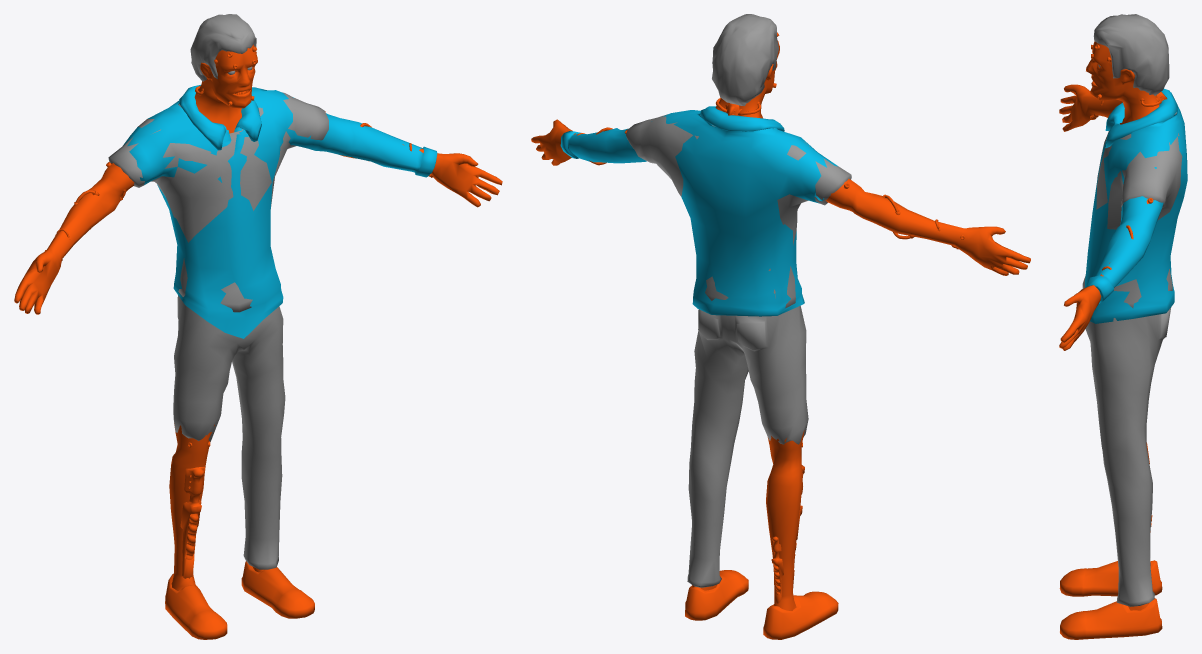
File: FASE1_low.FBX
3 views of the same model, side by side, from view 1: azimuth 30°, elevation 25°; view 2: azimuth 150°, elevation 25°; view 3: azimuth 270°, elevation 25° (orthographic). The views are drawn at different scales.
Parts seen in each view (by area): view 1: CUERPO; view 2: CUERPO; view 3: CUERPO.
Part boxes in pixels (<box>): CUERPO: <box>14,14,502,639</box>; CUERPO: <box>531,14,1030,639</box>; CUERPO: <box>1059,14,1187,639</box>.
Size of the model in its own units: 1.46 by 1.67 by 0.3271.
